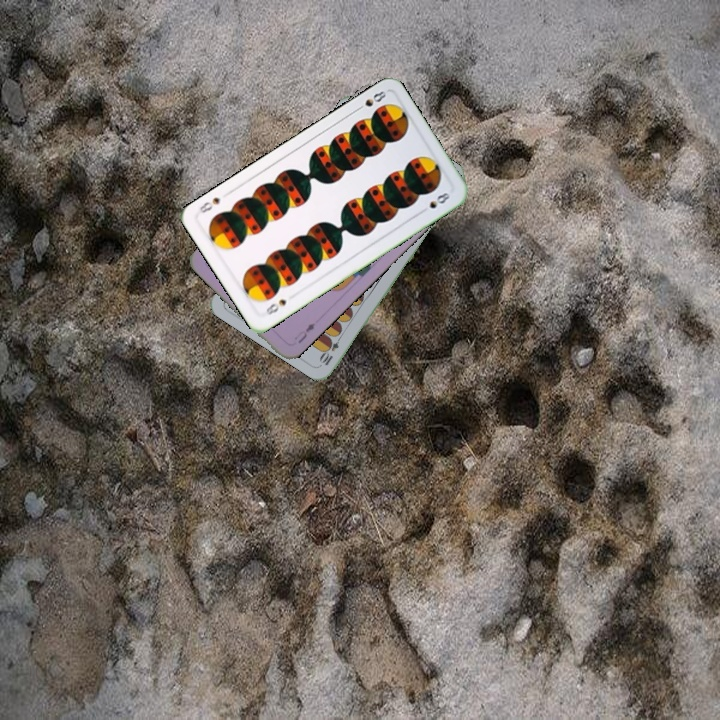E10: (317, 330, 345, 368)
EU: (290, 316, 321, 346)
S8: (352, 87, 389, 114), (261, 295, 289, 318)
